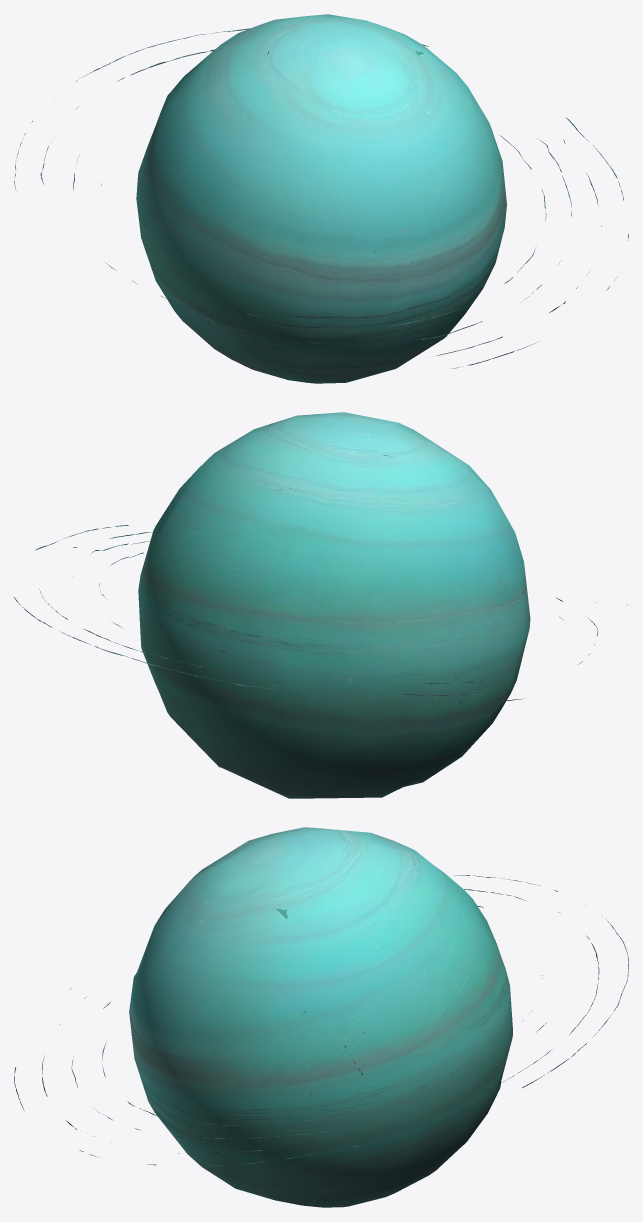
File: uranus.glb
3 renders of one model, top to bottom at view 1: azimuth 30°, elevation 25°; view 2: azimuth 150°, elevation 25°; view 3: azimuth 270°, elevation 25°, orthographic. The views are drawn at different scales.
Bounding box in the file's own units: 1.9 × 1.19 × 1.93.
1 material, 1 textured.
